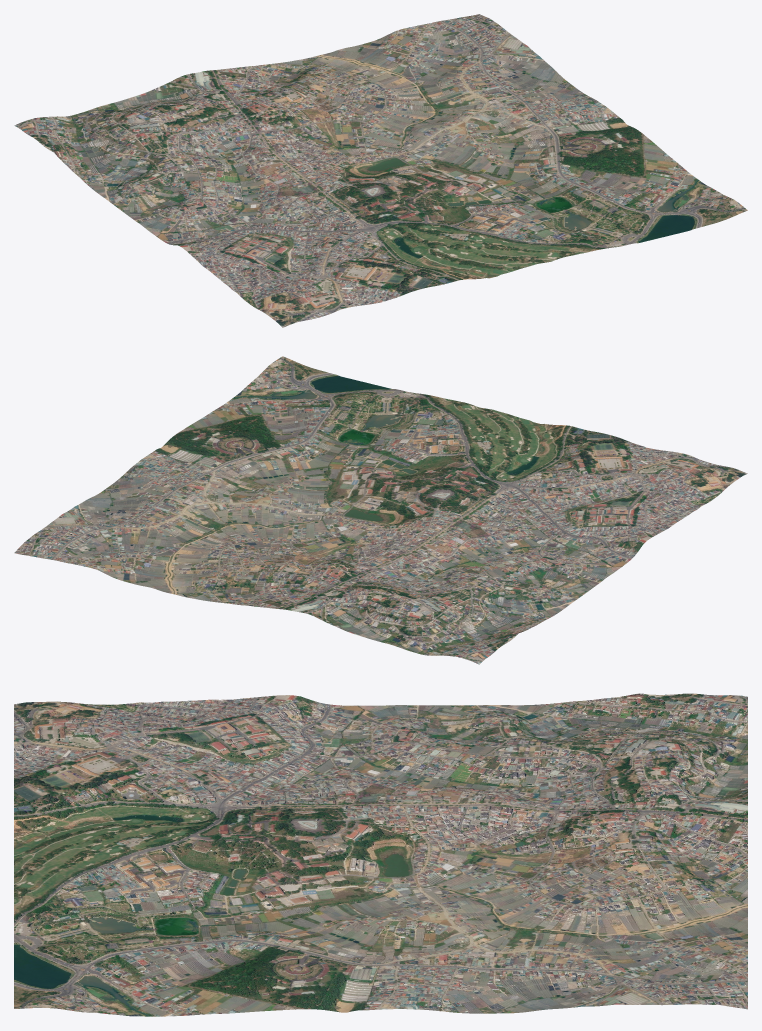
The model's file is terrain_real_T_E00_N01.glb.
3 renders of one model, top to bottom at view 1: azimuth 30°, elevation 25°; view 2: azimuth 150°, elevation 25°; view 3: azimuth 270°, elevation 25°, orthographic. The views are drawn at different scales.
Visible parts, largest first — view 1: TerrainReal_T_E00_N01; view 2: TerrainReal_T_E00_N01; view 3: TerrainReal_T_E00_N01.
Boxes of the visible parts, x1,y1,x2,y2 form: TerrainReal_T_E00_N01: (14, 14, 747, 327); TerrainReal_T_E00_N01: (14, 356, 747, 664); TerrainReal_T_E00_N01: (14, 693, 747, 1016).
Size of the model in its own units: 2000 by 74.37 by 2000.
Materials: 1 (1 with a texture image).
